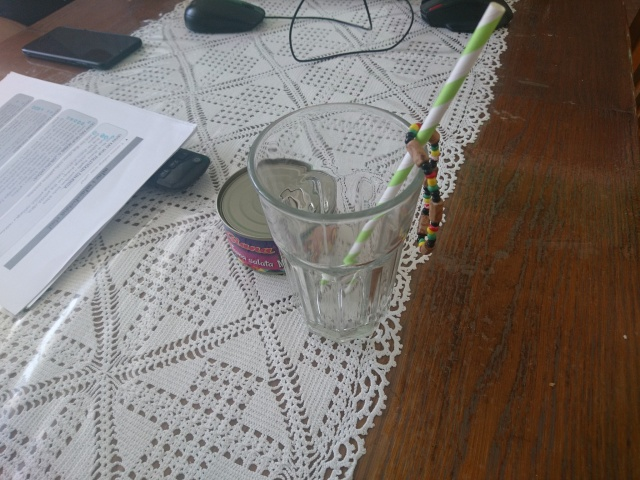Giana Tuna Salad Mexico 185g: (213, 154, 340, 277)
